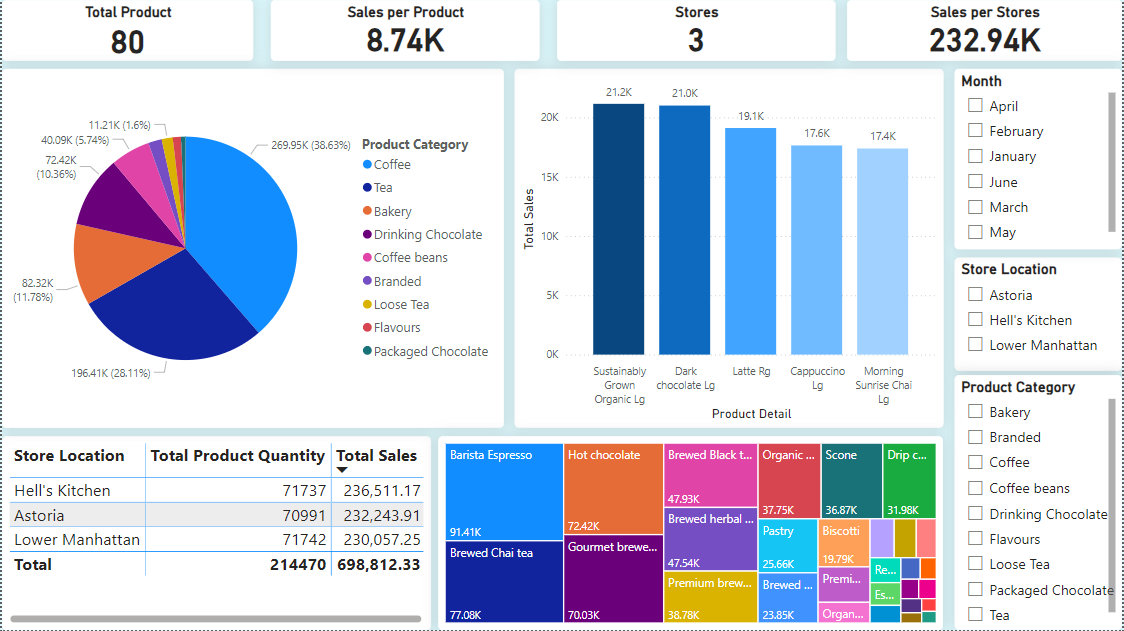

Layout of this report page (visuals, bound fields, positions):
{"tool":"powerbi","page":{"name":"Store & Product","canvas":[1280,720],"ordinal":1},"visuals":[{"type":"slicer","title":"Store Location","fields":{"Values":["Transactions.store_location"]},"box":[1088.4,293.6,191.6,129.4],"z":0},{"type":"slicer","title":"Product Category","fields":{"Values":["Transactions.product_category"]},"box":[1088.5,429.2,191.6,291.1],"z":1000},{"type":"columnChart","fields":{"Category":["Transactions.Product Detail"],"Y":["All Measure.Total Sales"]},"box":[585.9,78.4,490.1,410.5],"z":2000},{"type":"card","title":"Total Product","fields":{"Values":["All Measure.Total Products"]},"box":[0,0,287.4,69.7],"z":3000},{"type":"tableEx","fields":{"Values":["Transactions.Store Location","All Measure.Total Product Quantity","All Measure.Total Sales"]},"box":[0,498.8,490.1,221.4],"z":4000},{"type":"card","title":"Stores","fields":{"Values":["All Measure.Total Stores"]},"box":[634.4,0,318.5,69.7],"z":5000},{"type":"pieChart","fields":{"Y":["All Measure.Total Sales"],"Category":["Transactions.product_category"]},"box":[0,78.4,573.5,410.5],"z":6000},{"type":"card","title":"Sales per Stores","fields":{"Values":["All Measure.Sales per Store"]},"box":[965.3,0,314.7,69.7],"z":7000},{"type":"card","title":"Sales per Product","fields":{"Values":["All Measure.Sales per Product"]},"box":[307.3,0,307.3,69.7],"z":8000},{"type":"slicer","title":"Month","fields":{"Values":["Calendar Table.Month"]},"box":[1088.5,78.4,191.6,206.5],"z":9000},{"type":"treemap","fields":{"Group":["Transactions.Product Type"],"Values":["All Measure.Total Sales"]},"box":[498.8,498.8,577.2,221.4],"z":10000}]}

Visuals, with their boxes in screenshot pixels (x1, y1, x2, y2), scaled from the page's 1280x720 canvas onto the 1124x631 screenshot:
"Store Location" slicer: locate(956, 257, 1123, 371)
"Product Category" slicer: locate(956, 376, 1123, 630)
columnChart - Transactions.Product Detail x All Measure.Total Sales: locate(514, 69, 945, 428)
"Total Product" card: locate(0, 0, 252, 61)
tableEx - Transactions.Store Location x All Measure.Total Product Quantity: locate(0, 437, 430, 630)
"Stores" card: locate(557, 0, 837, 61)
pieChart - All Measure.Total Sales x Transactions.product_category: locate(0, 69, 504, 428)
"Sales per Stores" card: locate(848, 0, 1123, 61)
"Sales per Product" card: locate(270, 0, 540, 61)
"Month" slicer: locate(956, 69, 1123, 250)
treemap - Transactions.Product Type x All Measure.Total Sales: locate(438, 437, 945, 630)
